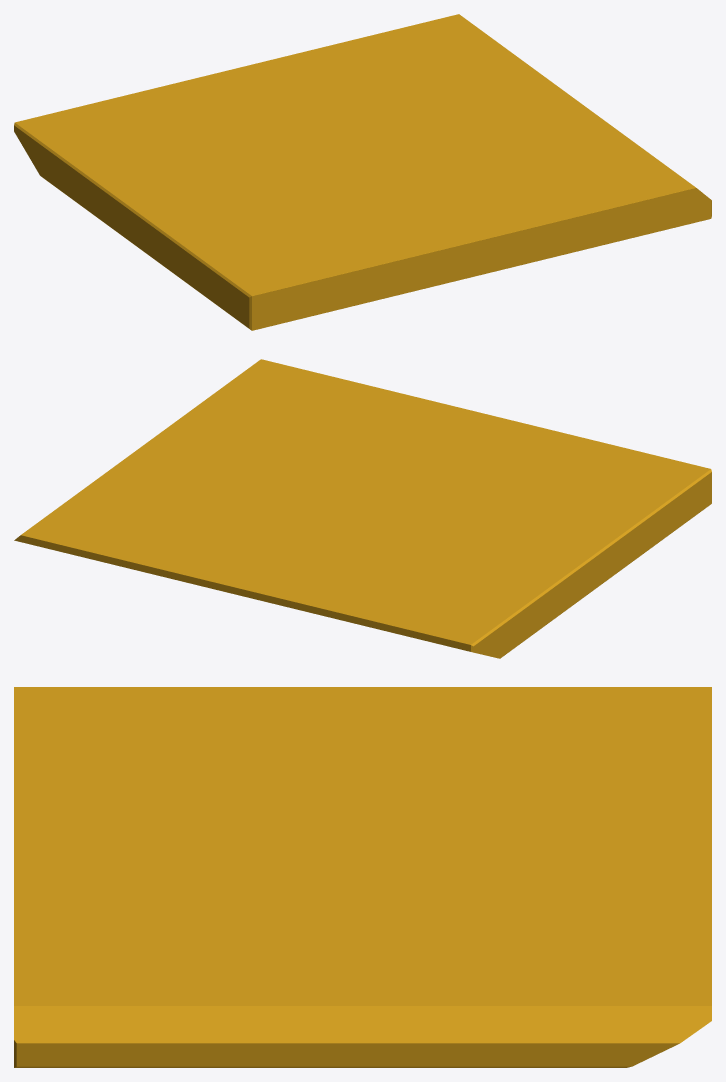
Rendered from asinma-krupp-hm-1500-03.glb.
The picture shows the model from 3 angles, top to bottom: view 1: azimuth 30°, elevation 25°; view 2: azimuth 150°, elevation 25°; view 3: azimuth 270°, elevation 25°; orthographic projection. The views are drawn at different scales.
Parts seen in each view (by area): view 1: body; view 2: body; view 3: body.
Boxes of the visible parts, x1,y1,x2,y2 form: body: [14, 14, 711, 330]; body: [14, 359, 711, 658]; body: [14, 687, 711, 1067].
Size of the model in its own units: 0.278 by 0.02 by 0.247.
